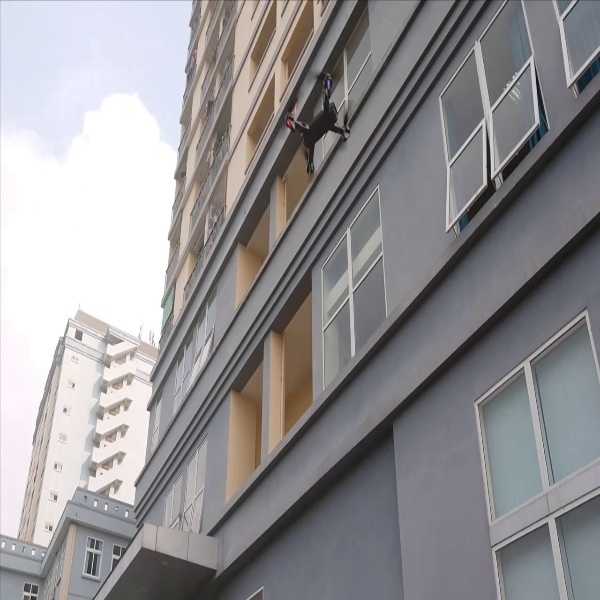drone: (276, 67, 357, 181)
